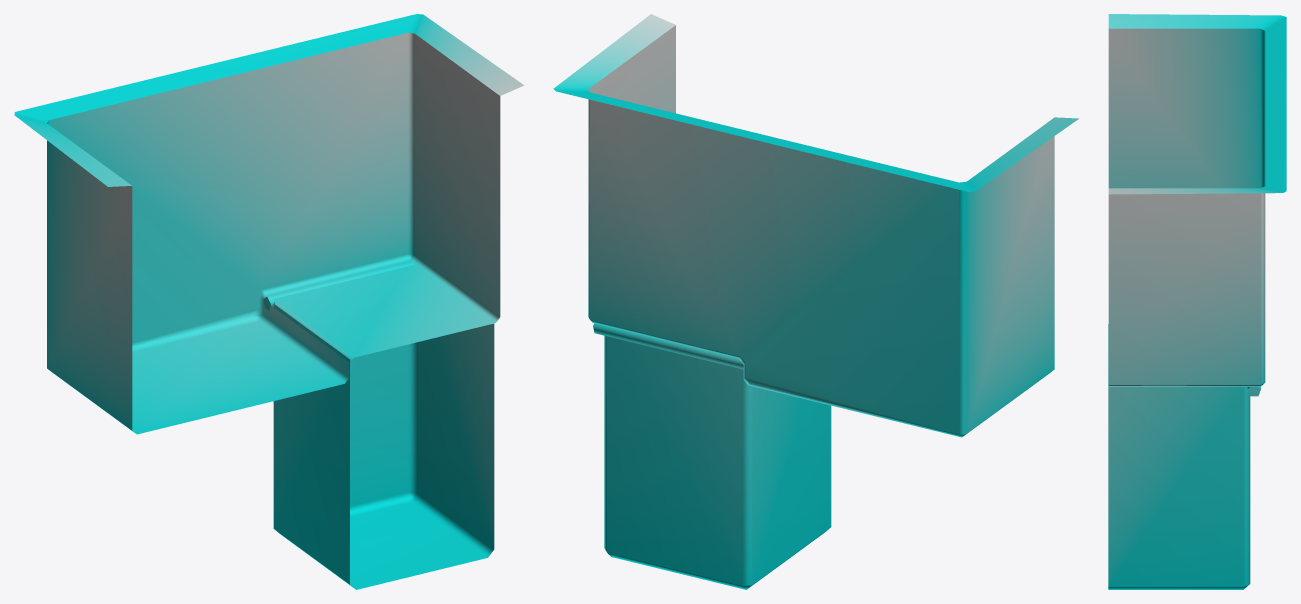
File: SM_ebreak_01.fbx
3 views of the same model, side by side, from view 1: azimuth 30°, elevation 25°; view 2: azimuth 150°, elevation 25°; view 3: azimuth 270°, elevation 25° (orthographic). The views are drawn at different scales.
Visible parts, largest first — view 1: SM_ebreak_01; view 2: SM_ebreak_01; view 3: SM_ebreak_01.
Part boxes in pixels (left/top/right/bottom): SM_ebreak_01: left=14, top=14, right=524, bottom=589; SM_ebreak_01: left=553, top=14, right=1078, bottom=589; SM_ebreak_01: left=1108, top=14, right=1286, bottom=589.
Size of the model in its own units: 29.69 by 12.41 by 31.56.
